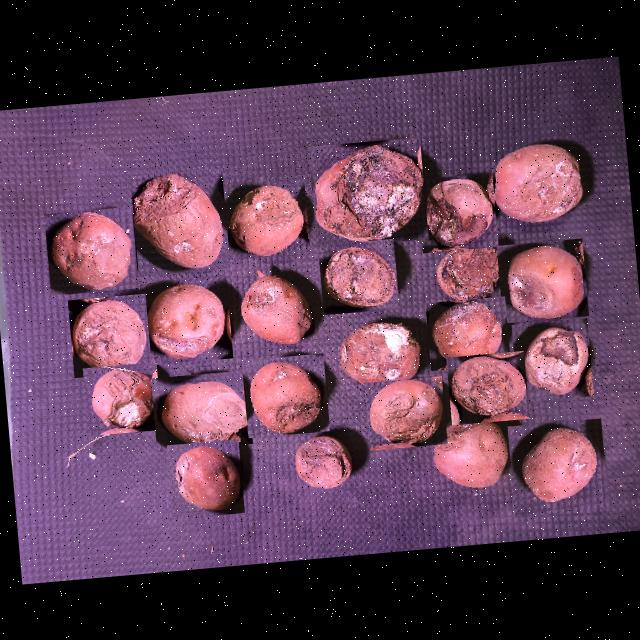Damaged potato: (308, 137, 428, 248), (130, 168, 230, 276), (507, 418, 608, 516), (486, 138, 590, 230), (138, 274, 233, 365), (150, 369, 252, 452), (44, 206, 138, 295), (233, 260, 322, 352), (496, 238, 588, 323), (220, 175, 310, 260), (424, 410, 511, 496), (242, 353, 330, 438), (332, 316, 428, 392), (67, 293, 152, 378), (511, 318, 594, 402), (416, 172, 498, 252), (424, 296, 510, 370), (446, 350, 530, 425), (363, 376, 448, 450), (318, 238, 400, 314), (167, 438, 244, 518), (82, 362, 162, 436), (430, 240, 508, 310), (285, 428, 358, 501)
